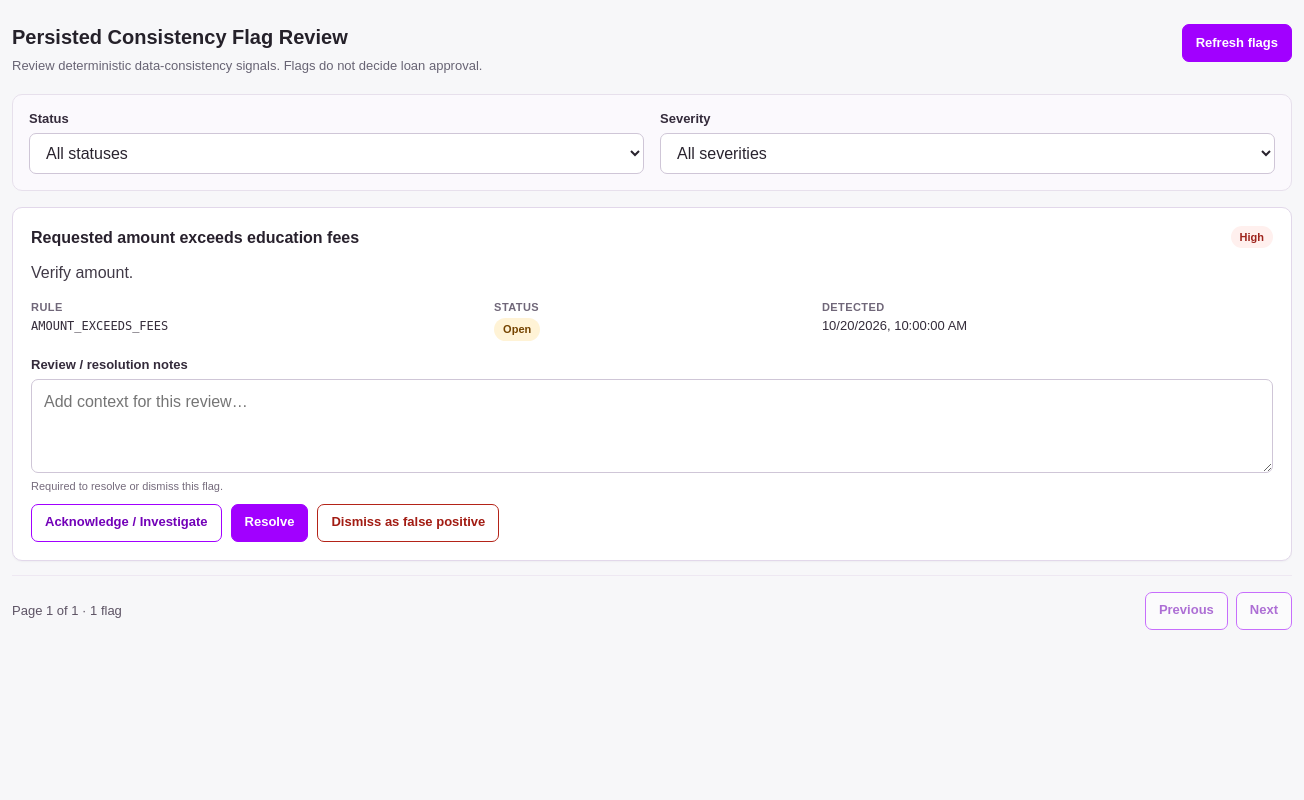
Scenario: ConsistencyFlagReviewPanel › requires notes to dismiss and reports mutation failures without refreshing as success
Click the button "Dismiss as false positive" at (408,523), box left=317, top=504, right=499, bottom=542
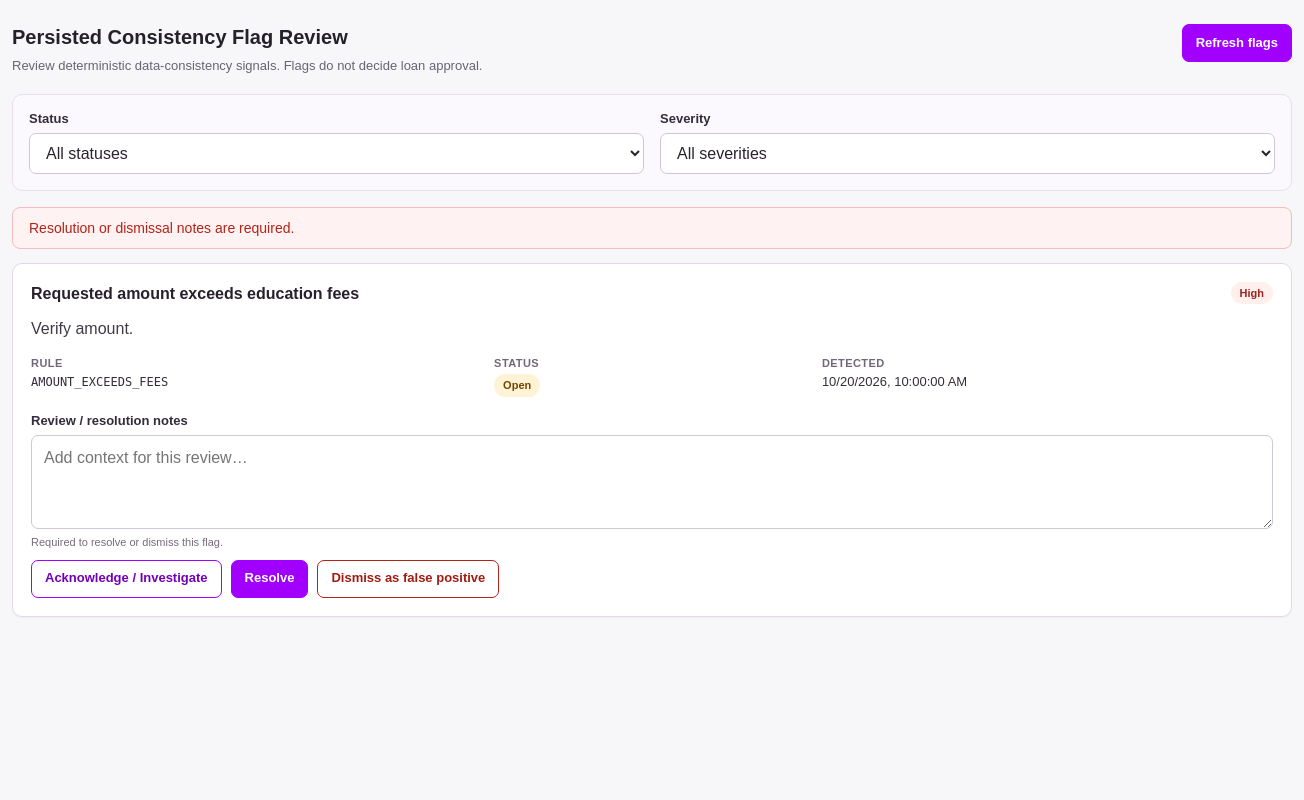
Check: the message shows "notes are required", box left=29, top=220, right=294, bottom=236
Type "Reviewed evidence" into the text box labelled "Review / resolution notes" at (652,482), box left=31, top=435, right=1273, bottom=529
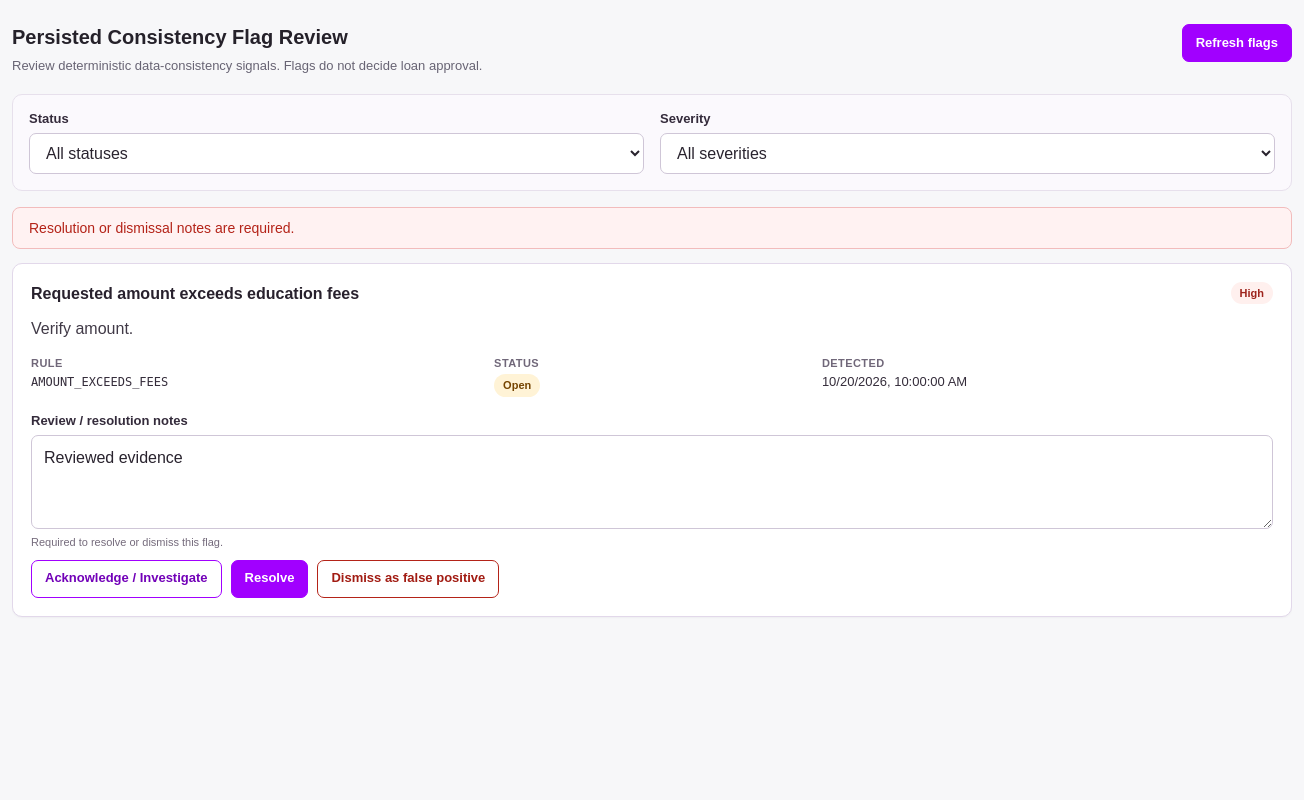
Click the button "Dismiss as false positive" at (408,579), box left=317, top=560, right=499, bottom=598
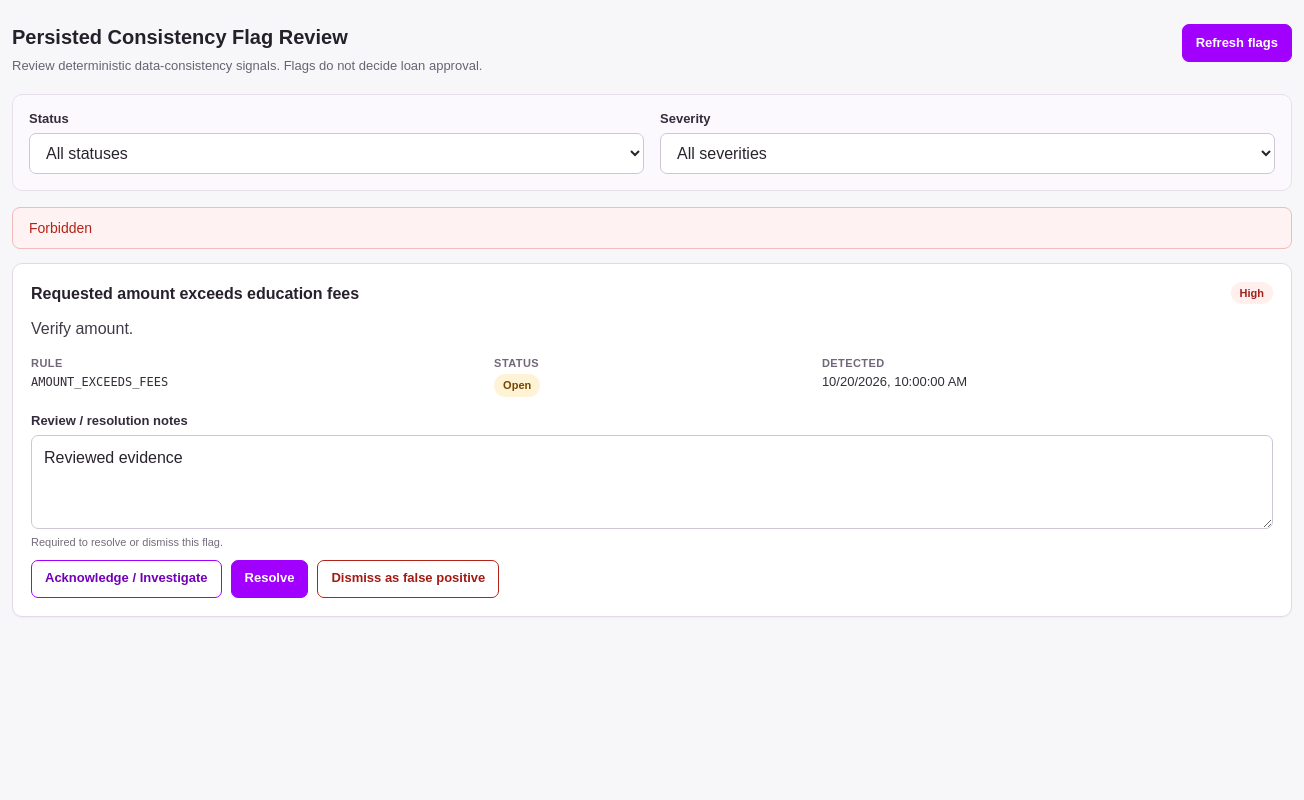
Check: the message reads "Forbidden", box left=29, top=220, right=92, bottom=236
